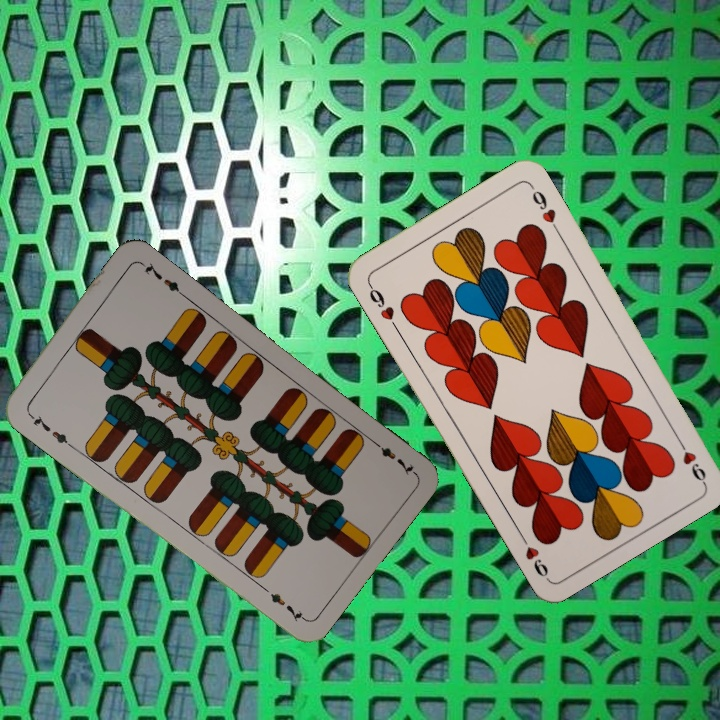E7: (367, 435, 417, 478), (23, 408, 73, 449)
H9: (671, 431, 709, 485), (364, 279, 401, 332)
